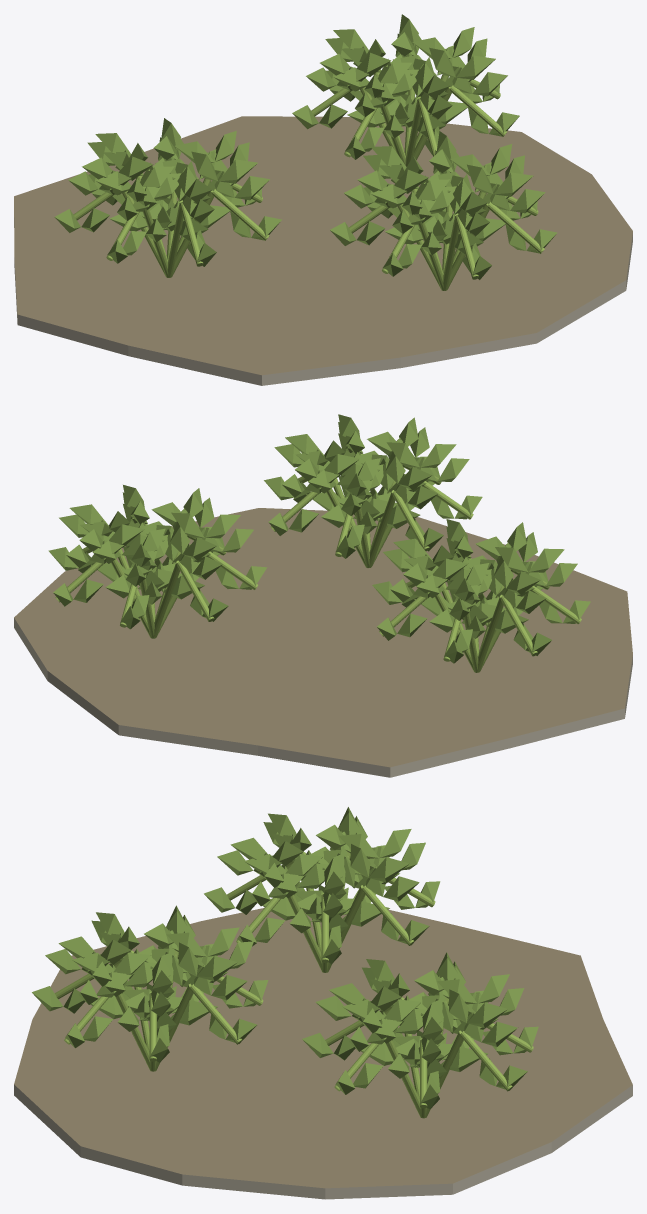
File: Fern_Cluster_Sprouting.glb
The picture shows the model from 3 angles, top to bottom: view 1: azimuth 30°, elevation 25°; view 2: azimuth 150°, elevation 25°; view 3: azimuth 270°, elevation 25°; orthographic projection. The views are drawn at different scales.
Visible parts, largest first — view 1: Support, Growth; view 2: Support, Growth; view 3: Support, Growth.
Boxes of the visible parts, x1,y1,x2,y2 form: Support: (14,116,632,385); Growth: (54,14,557,290); Support: (14,508,632,777); Growth: (48,414,590,672); Support: (14,908,632,1199); Growth: (32,807,538,1118).
Bounding box in the file's own units: 2.82 × 0.64 × 2.52.
